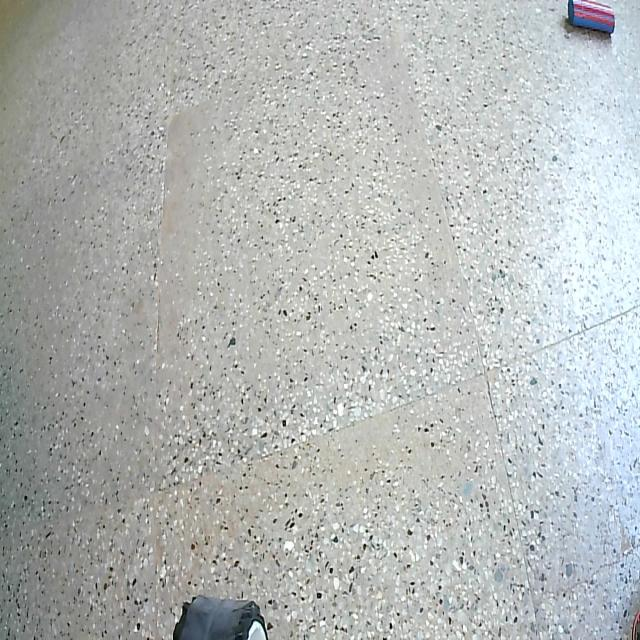cylinder: (562, 0, 616, 40)
